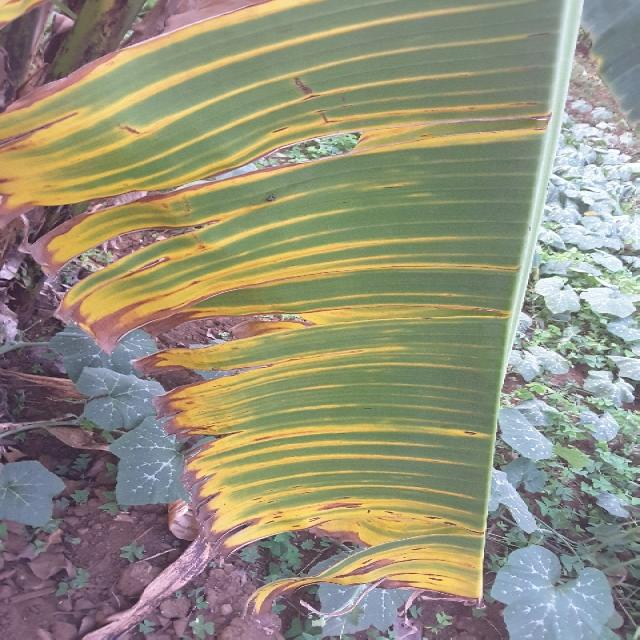Cordana: (0, 0, 572, 639)
